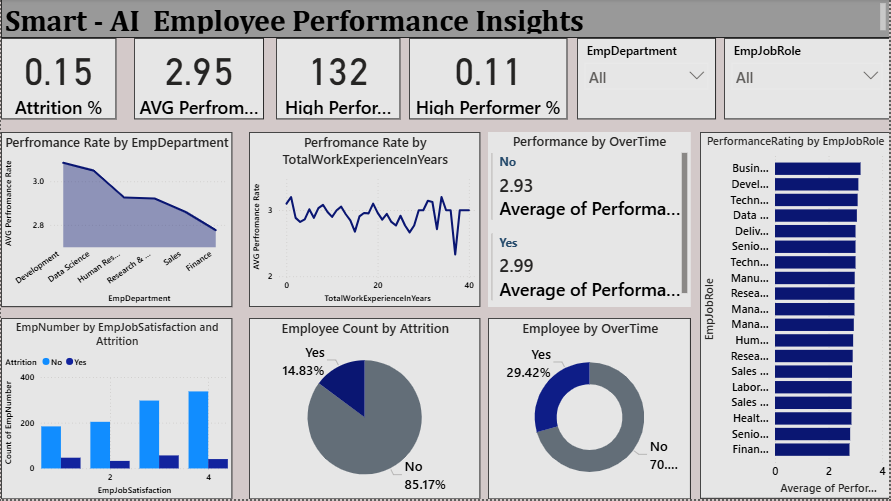

What the dashboard file says about the page in this screenshot:
{"tool":"powerbi","page":{"name":"Page 1","canvas":[1280,720],"ordinal":0},"visuals":[{"type":"textbox","box":[0,0,1280.2,56.2],"z":0},{"type":"card","fields":{"Values":["INX_Future_Inc_Employee_Perform.Attrition %"]},"box":[0,56.2,165.6,116.6],"z":1000},{"type":"card","fields":{"Values":["INX_Future_Inc_Employee_Perform.AVG Perfromance Rate"]},"box":[191.5,56.2,187.2,116.6],"z":2000},{"type":"card","fields":{"Values":["INX_Future_Inc_Employee_Perform.High Performer"]},"box":[396,56.2,178.6,116.6],"z":3000},{"type":"card","fields":{"Values":["INX_Future_Inc_Employee_Perform.High Performer %"]},"box":[587.5,56.2,227.5,116.6],"z":4000},{"type":"areaChart","title":"Perfromance Rate by EmpDepartment","fields":{"Category":["INX_Future_Inc_Employee_Perform.EmpDepartment"],"Y":["INX_Future_Inc_Employee_Perform.AVG Perfromance Rate"]},"box":[0,191.5,332.6,252],"z":5000},{"type":"barChart","title":"PerformanceRating by EmpJobRole","fields":{"Category":["INX_Future_Inc_Employee_Perform.EmpJobRole"],"Y":["Avg(INX_Future_Inc_Employee_Perform.PerformanceRating)"]},"box":[1006.6,191.5,273.6,528.5],"z":6000},{"type":"lineChart","title":"Perfromance Rate by TotalWorkExperienceInYears","fields":{"Category":["INX_Future_Inc_Employee_Perform.TotalWorkExperienceInYears"],"Y":["INX_Future_Inc_Employee_Perform.AVG Perfromance Rate"]},"box":[357.1,191.5,332.6,252],"z":7000},{"type":"clusteredColumnChart","title":"EmpNumber by EmpJobSatisfaction and Attrition","fields":{"Category":["INX_Future_Inc_Employee_Perform.EmpJobSatisfaction"],"Y":["CountNonNull(INX_Future_Inc_Employee_Perform.EmpNumber)"],"Series":["INX_Future_Inc_Employee_Perform.Attrition"]},"box":[0,459.4,332.6,260.6],"z":8000},{"type":"pieChart","title":"Employee Count by Attrition","fields":{"Category":["INX_Future_Inc_Employee_Perform.Attrition"],"Y":["CountNonNull(INX_Future_Inc_Employee_Perform.EmpNumber)"]},"box":[357,459,333,261],"z":9000},{"type":"donutChart","title":"Employee  by OverTime","fields":{"Category":["INX_Future_Inc_Employee_Perform.OverTime"],"Y":["CountNonNull(INX_Future_Inc_Employee_Perform.EmpNumber)"]},"box":[701.3,459.4,292.3,260.6],"z":10000},{"type":"multiRowCard","title":"Performance by OverTime","fields":{"Values":["INX_Future_Inc_Employee_Perform.OverTime","Avg(INX_Future_Inc_Employee_Perform.PerformanceRating)"]},"box":[701.3,191.5,292.3,252],"z":11000},{"type":"slicer","fields":{"Values":["INX_Future_Inc_Employee_Perform.EmpDepartment"]},"box":[829.4,56.2,200.2,116.6],"z":12000},{"type":"slicer","fields":{"Values":["INX_Future_Inc_Employee_Perform.EmpJobRole"]},"box":[1041.1,56.2,239,116.6],"z":13000}]}

Visuals, with their boxes in screenshot pixels (x1, y1, x2, y2), scaled from the page's 1280x720 canvas onto the 891x501 screenshot:
textbox: 0,0,890,39
card - INX_Future_Inc_Employee_Perform.Attrition %: 0,39,115,120
card - INX_Future_Inc_Employee_Perform.AVG Perfromance Rate: 133,39,264,120
card - INX_Future_Inc_Employee_Perform.High Performer: 276,39,400,120
card - INX_Future_Inc_Employee_Perform.High Performer %: 409,39,567,120
"Perfromance Rate by EmpDepartment" areaChart: 0,133,232,309
"PerformanceRating by EmpJobRole" barChart: 701,133,890,500
"Perfromance Rate by TotalWorkExperienceInYears" lineChart: 249,133,480,309
"EmpNumber by EmpJobSatisfaction and Attrition" clusteredColumnChart: 0,320,232,500
"Employee Count by Attrition" pieChart: 249,319,480,500
"Employee  by OverTime" donutChart: 488,320,692,500
"Performance by OverTime" multiRowCard: 488,133,692,309
slicer - INX_Future_Inc_Employee_Perform.EmpDepartment: 577,39,717,120
slicer - INX_Future_Inc_Employee_Perform.EmpJobRole: 725,39,890,120
